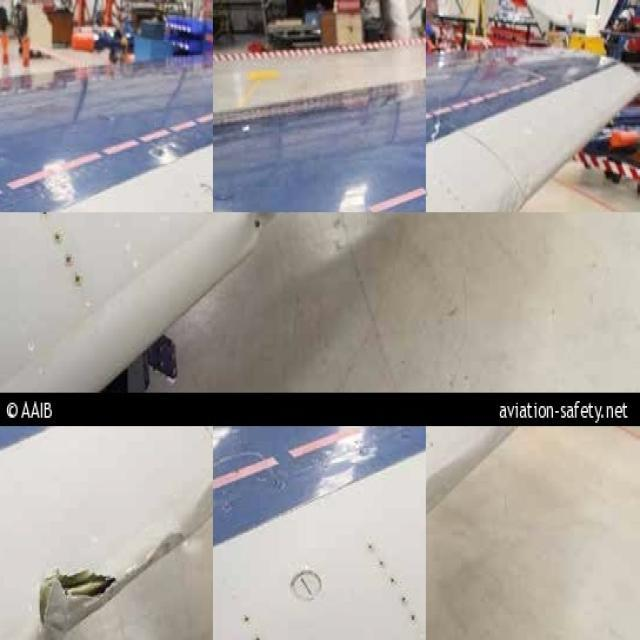crack: (41, 572, 118, 640)
dent: (150, 539, 184, 569), (194, 484, 214, 531)
